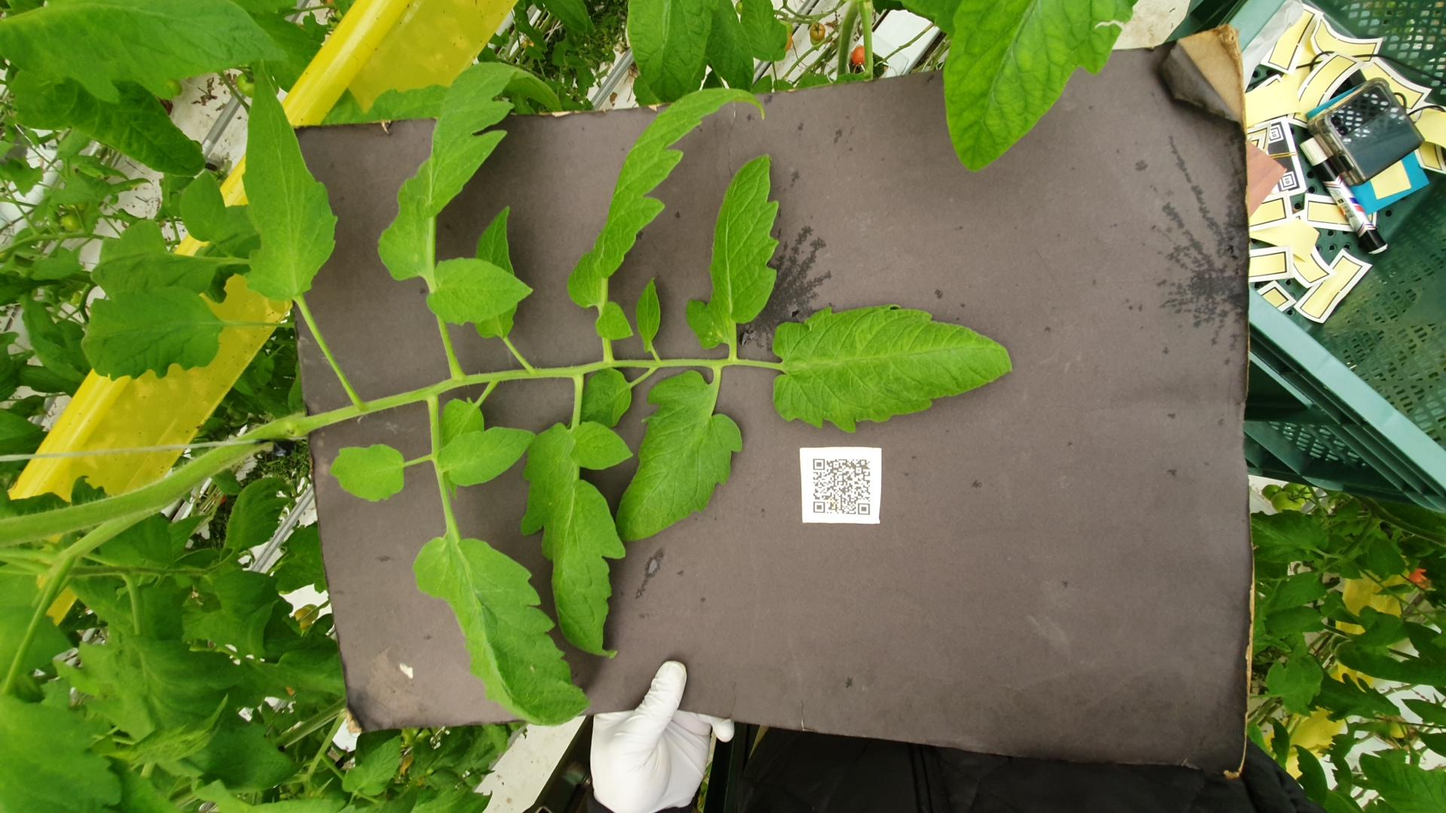Healthy: (841, 316, 1294, 432), (940, 210, 1336, 316), (1134, 529, 1446, 640), (150, 231, 493, 330), (1258, 0, 1446, 163), (681, 432, 901, 568), (272, 291, 702, 356), (900, 133, 1343, 191), (475, 346, 794, 419), (823, 384, 1170, 439), (762, 45, 933, 126), (1264, 351, 1446, 401), (865, 238, 990, 300), (574, 249, 689, 303), (552, 184, 660, 233), (1015, 100, 1141, 129), (820, 357, 955, 373)
